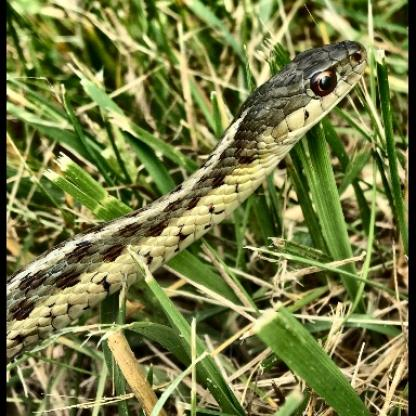Snake: (25, 38, 370, 332)
